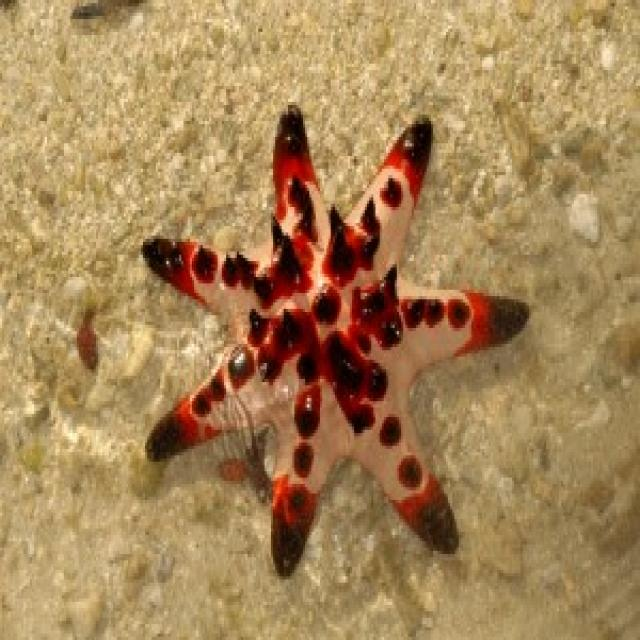Starfish: (143, 92, 532, 573)
